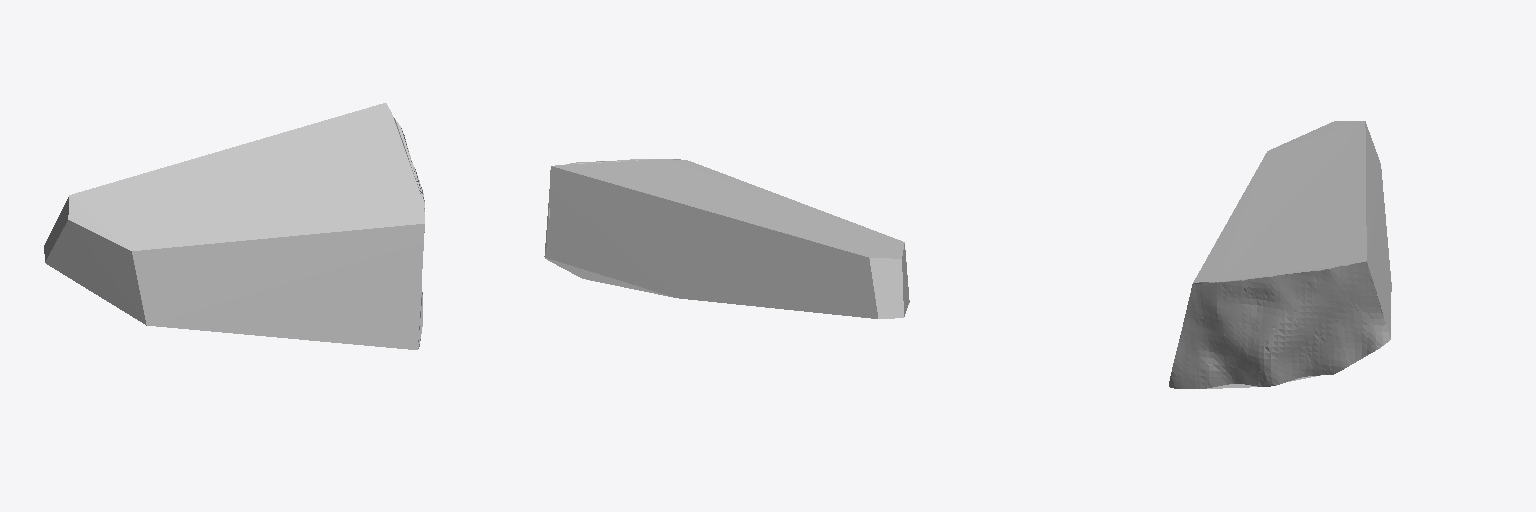
Rendered from low_cell_054.obj.
3 renders of one model, left to right at view 1: azimuth 30°, elevation 25°; view 2: azimuth 150°, elevation 25°; view 3: azimuth 270°, elevation 25°, orthographic.
Parts seen in each view (by area): view 1: low_cell.054_low_cell.053; view 2: low_cell.054_low_cell.053; view 3: low_cell.054_low_cell.053.
Part boxes in pixels (x1,y1,x2,y2): low_cell.054_low_cell.053: (44, 103, 424, 349); low_cell.054_low_cell.053: (544, 159, 909, 318); low_cell.054_low_cell.053: (1169, 121, 1391, 388).
Size of the model in its own units: 1.17 by 0.511 by 0.6509.